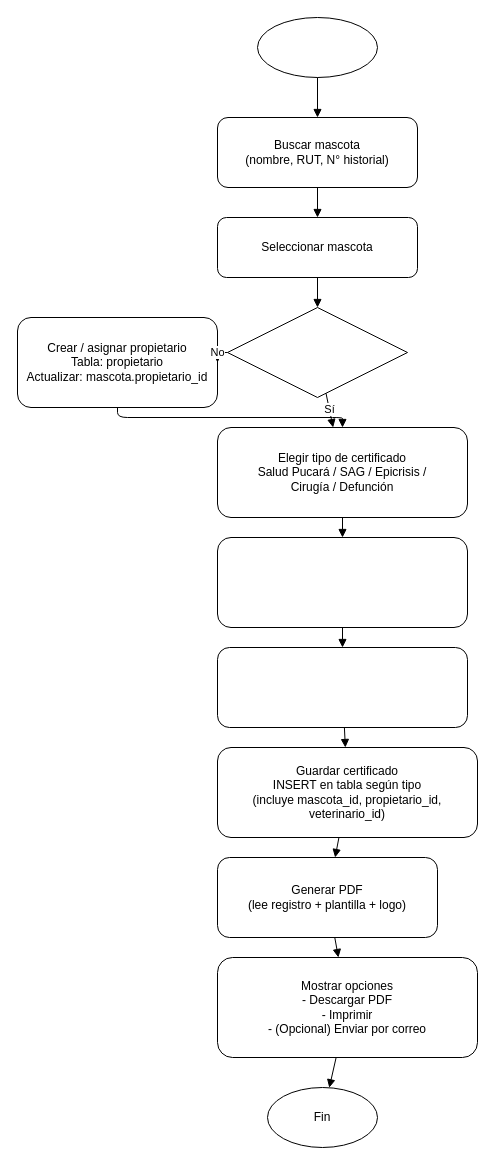
Some shapes in this 495 by 1165 pixel diagram are drawn without their labels. The shapes that lost their labels are listed below. From the top down, each one's centre as x and y in pixels, then its label:
At pixel 317 47: "Inicio".
At pixel 317 352: "¿Mascota tiene propietario vinculado?".
At pixel 342 582: "Cargar formulario Precargar: mascota, propietario, veterinario (si rol = vet)".
At pixel 342 687: "Completar datos específicos (datos clínicos, textos, fechas)".
